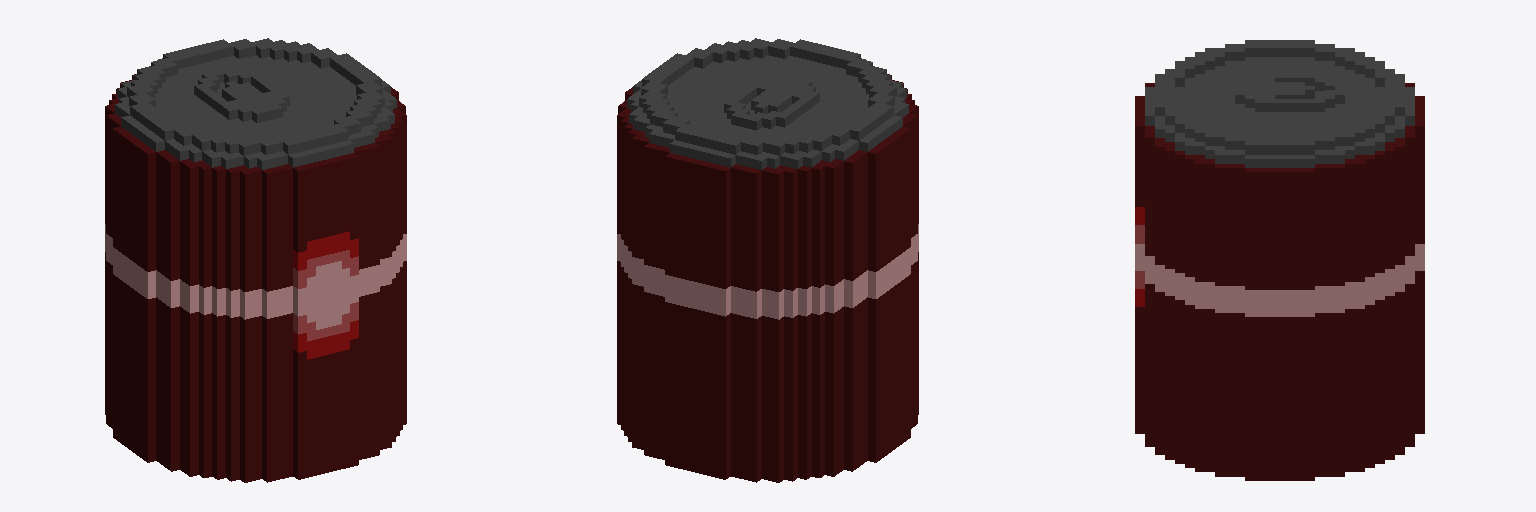
3 renders of one model, left to right at view 1: azimuth 30°, elevation 25°; view 2: azimuth 150°, elevation 25°; view 3: azimuth 270°, elevation 25°, orthographic.
Parts seen in each view (by area): view 1: object 1; view 2: object 1; view 3: object 1.
Boxes of the visible parts, <box> form: object 1: <box>105,38,406,482</box>; object 1: <box>617,38,918,482</box>; object 1: <box>1135,40,1424,480</box>.
Size of the model in its own units: 2.9 by 3.6 by 2.9.
1 materials, 1 textured.